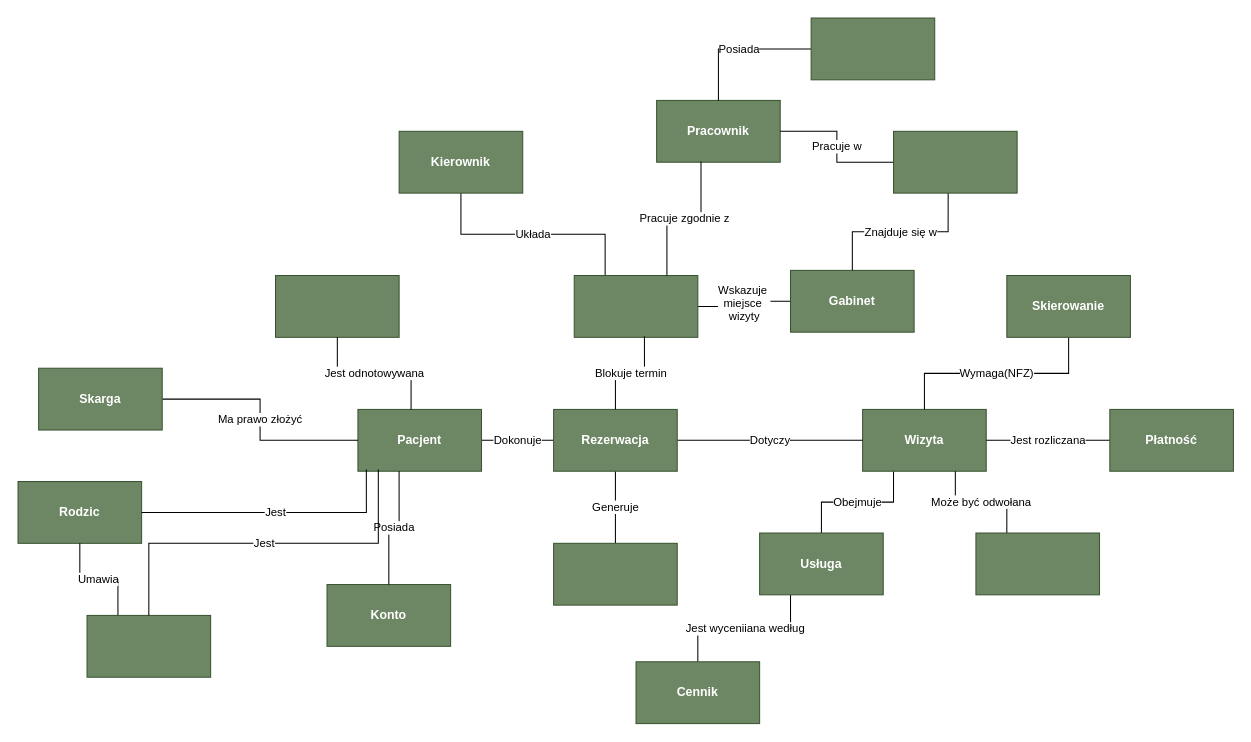
Image size: 1251x742. Some labels were removed from this diagram. The shapes that lost their labels are listed below. From the top down, each one's box as (x1, y1, x2, y2) in pixels, then its label:
(810, 17, 935, 80): Specjalizacja
(892, 130, 1017, 193): Filia
(274, 274, 399, 337): Nieobecność
(573, 274, 698, 337): Grafik
(553, 542, 677, 605): Przypomnienia
(975, 532, 1100, 595): Odwołanie wizyty
(86, 614, 211, 677): Dziecko
